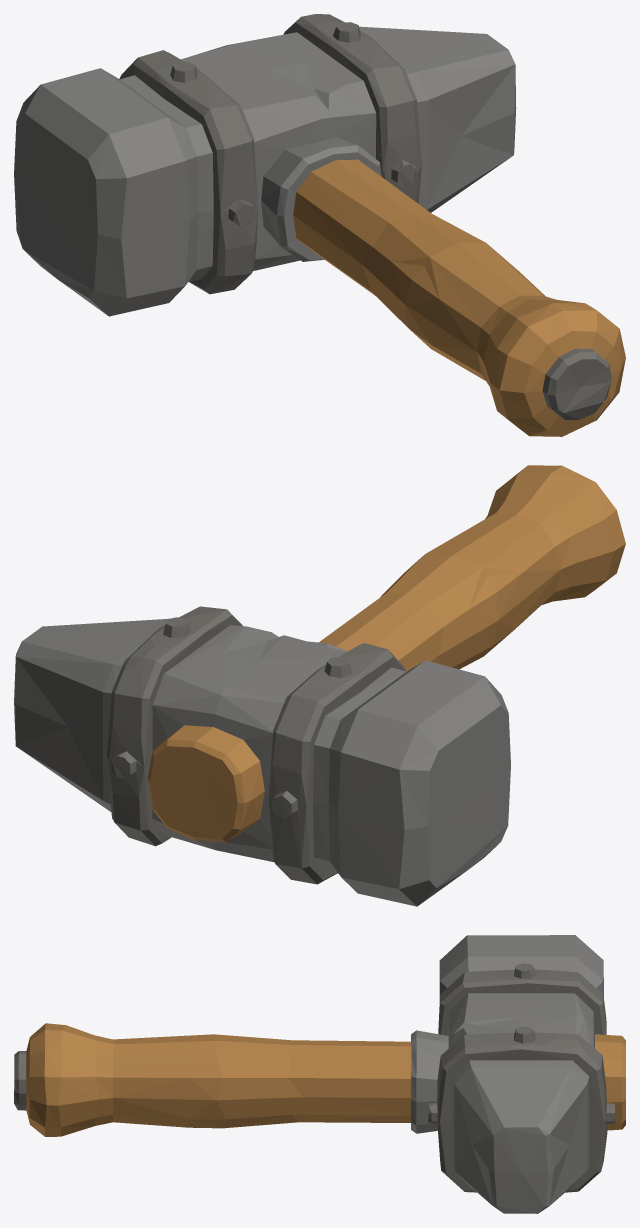
Rendered from BlacksmithHammer01.fbx.
The picture shows the model from 3 angles, top to bottom: view 1: azimuth 30°, elevation 25°; view 2: azimuth 150°, elevation 25°; view 3: azimuth 270°, elevation 25°; orthographic projection. The views are drawn at different scales.
Visible parts, largest first — view 1: BlacksmithHammer01; view 2: BlacksmithHammer01; view 3: BlacksmithHammer01.
Boxes of the visible parts, left/top/right/bottom form: BlacksmithHammer01: left=14, top=14, right=625, bottom=436; BlacksmithHammer01: left=14, top=465, right=625, bottom=906; BlacksmithHammer01: left=14, top=935, right=625, bottom=1213.
Size of the model in its own units: 0.3675 by 0.55 by 0.1647.
